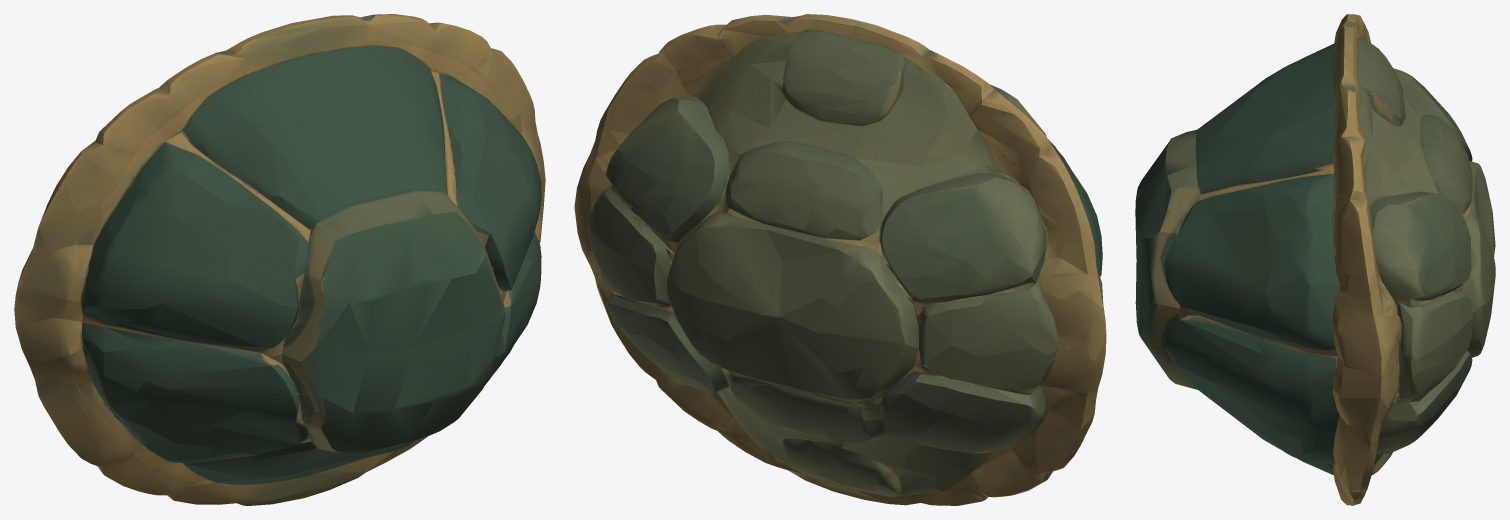
The model's file is shell-fit.glb.
3 views of the same model, side by side, from view 1: azimuth 30°, elevation 25°; view 2: azimuth 150°, elevation 25°; view 3: azimuth 270°, elevation 25° (orthographic). The views are drawn at different scales.
Visible parts, largest first — view 1: Mesh_0; view 2: Mesh_0; view 3: Mesh_0.
Boxes of the visible parts, <box> form: Mesh_0: <box>14,14,545,505</box>; Mesh_0: <box>574,14,1106,505</box>; Mesh_0: <box>1135,14,1495,505</box>.
Size of the model in its own units: 0.68 by 0.58 by 0.44.
Materials: 1 (1 with a texture image).
